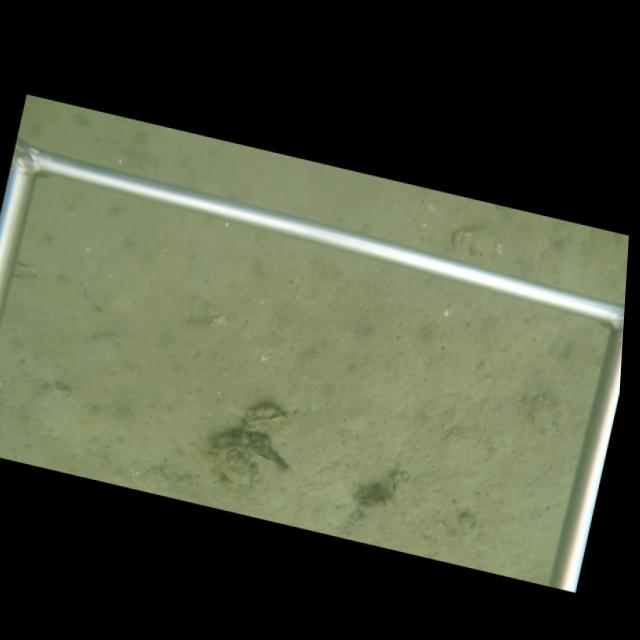Oyster-Closed: (242, 443, 290, 471)
